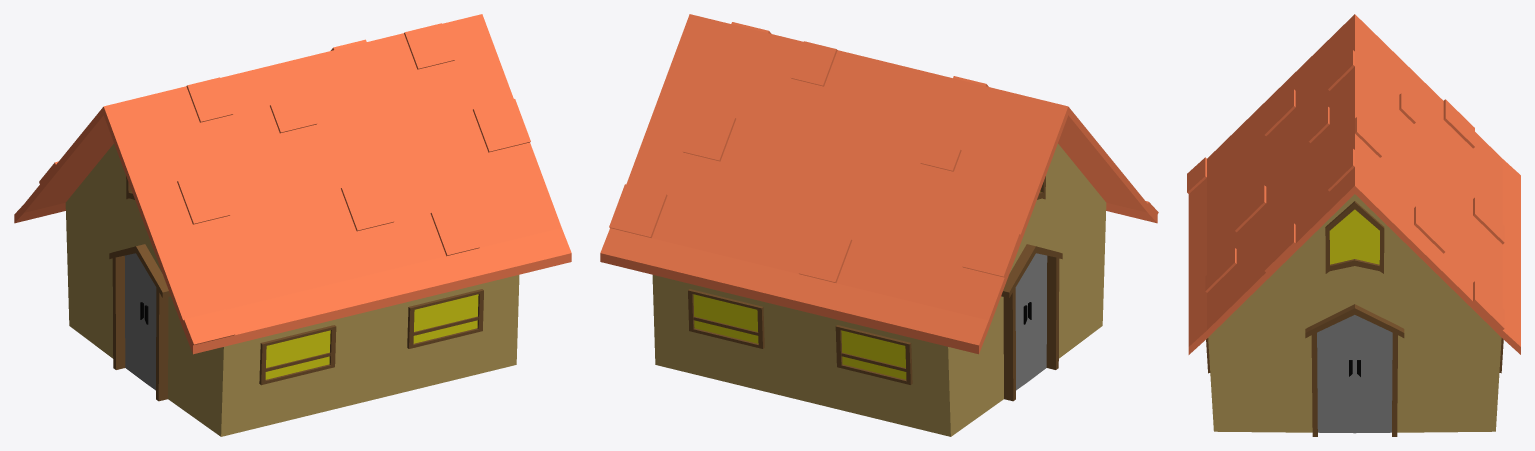
The model's file is House Model 01F.fbx.
3 renders of one model, left to right at view 1: azimuth 30°, elevation 25°; view 2: azimuth 150°, elevation 25°; view 3: azimuth 270°, elevation 25°, orthographic. The views are drawn at different scales.
Parts seen in each view (by area): view 1: Plane; view 2: Plane; view 3: Plane.
Boxes of the visible parts, x1,y1,x2,y2 form: Plane: (14, 14, 571, 436); Plane: (600, 14, 1158, 436); Plane: (1187, 14, 1520, 436).
Bounding box in the file's own units: 358 × 261 × 294.
